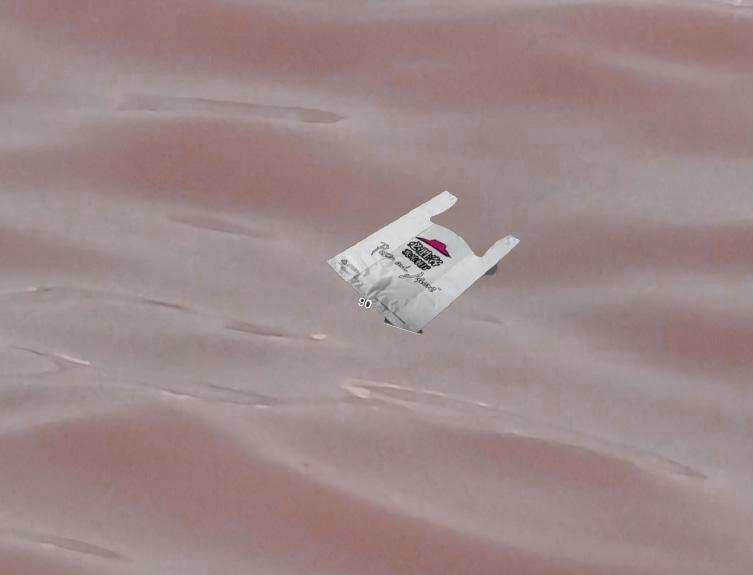Trash: (328, 184, 517, 336)
